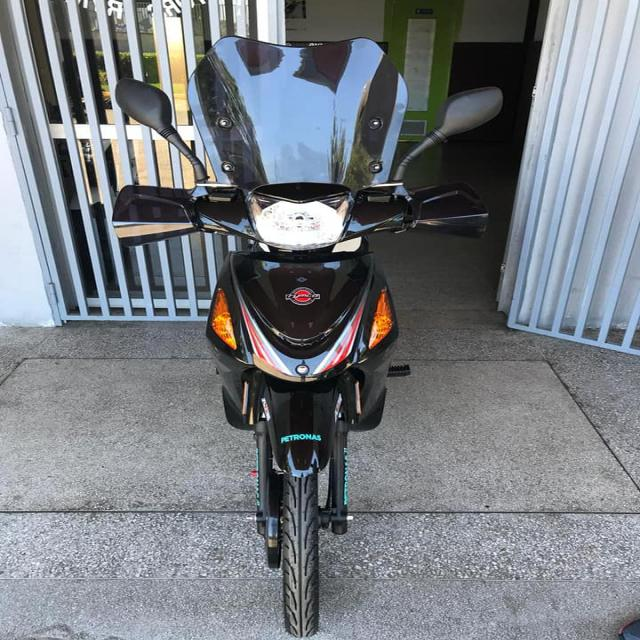Motorcycle: (112, 35, 501, 638)
